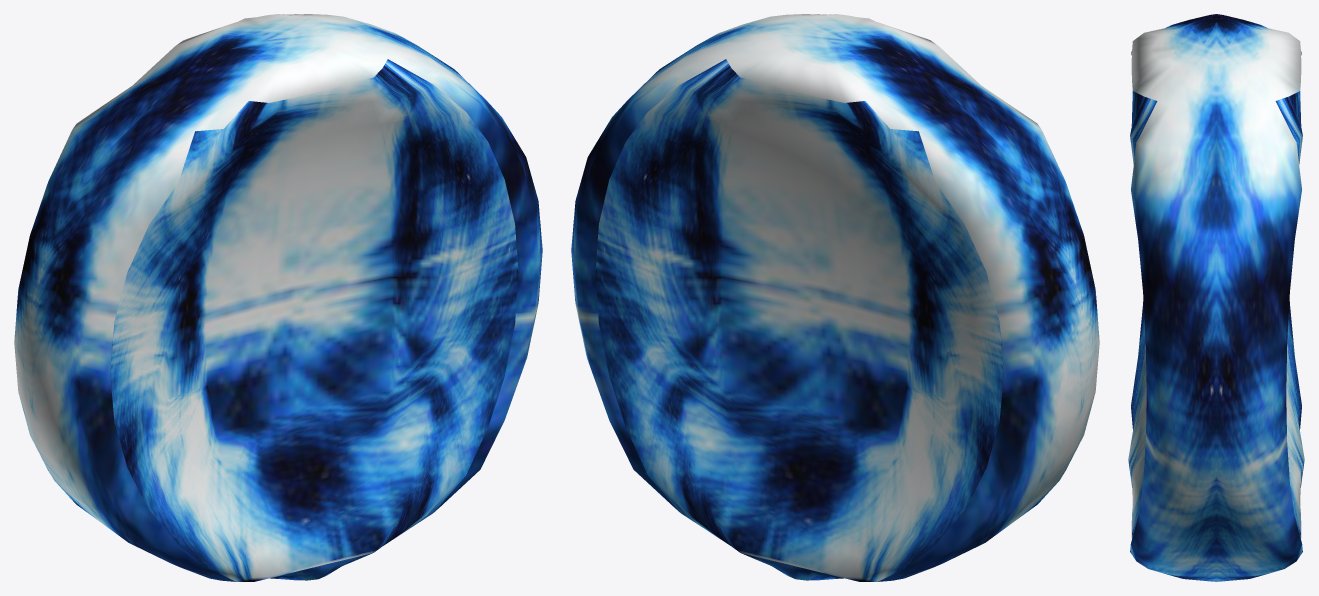
File: Portal.fbx
The picture shows the model from 3 angles, left to right: view 1: azimuth 30°, elevation 25°; view 2: azimuth 150°, elevation 25°; view 3: azimuth 270°, elevation 25°; orthographic projection. The views are drawn at different scales.
Parts seen in each view (by area): view 1: Sphere; view 2: Sphere; view 3: Sphere.
Boxes of the visible parts, bbox=[...] form: Sphere: bbox=[14, 14, 542, 581]; Sphere: bbox=[571, 14, 1099, 581]; Sphere: bbox=[1128, 14, 1304, 581].
Bounding box in the file's own units: 1.99 × 1.97 × 0.6209.
